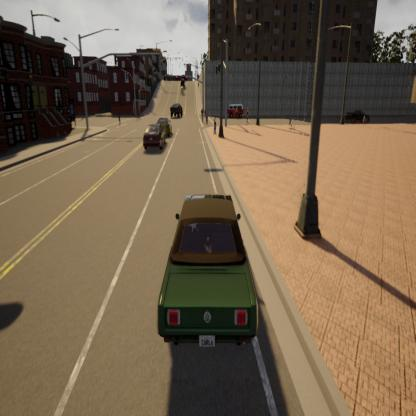Cars: (150, 182, 265, 360), (143, 122, 170, 156), (151, 113, 174, 138), (344, 107, 374, 126), (224, 100, 246, 119), (168, 101, 185, 120)
Pedestrian: (287, 113, 295, 130), (245, 107, 251, 128), (212, 115, 217, 136), (204, 110, 210, 126), (201, 105, 206, 124)
